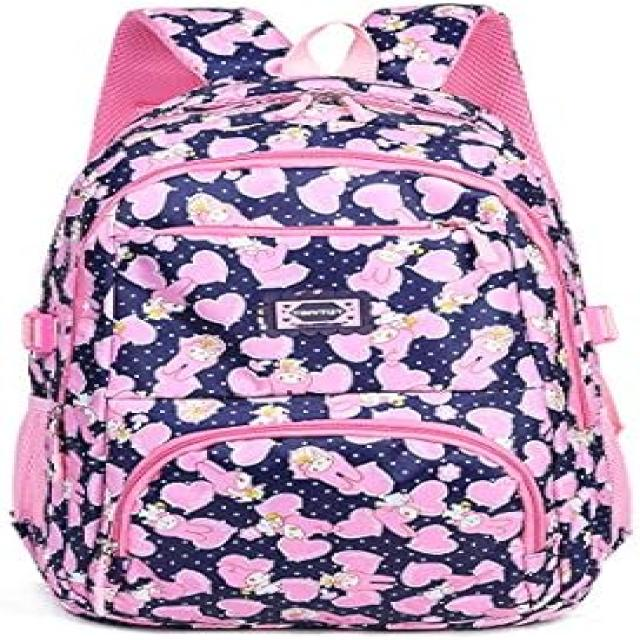backpack: (8, 2, 634, 632)
